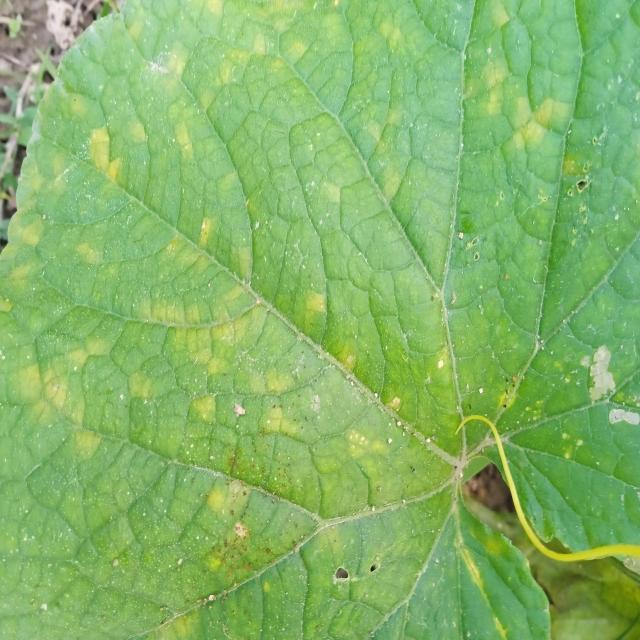cucumber_downy: (0, 0, 541, 638)
